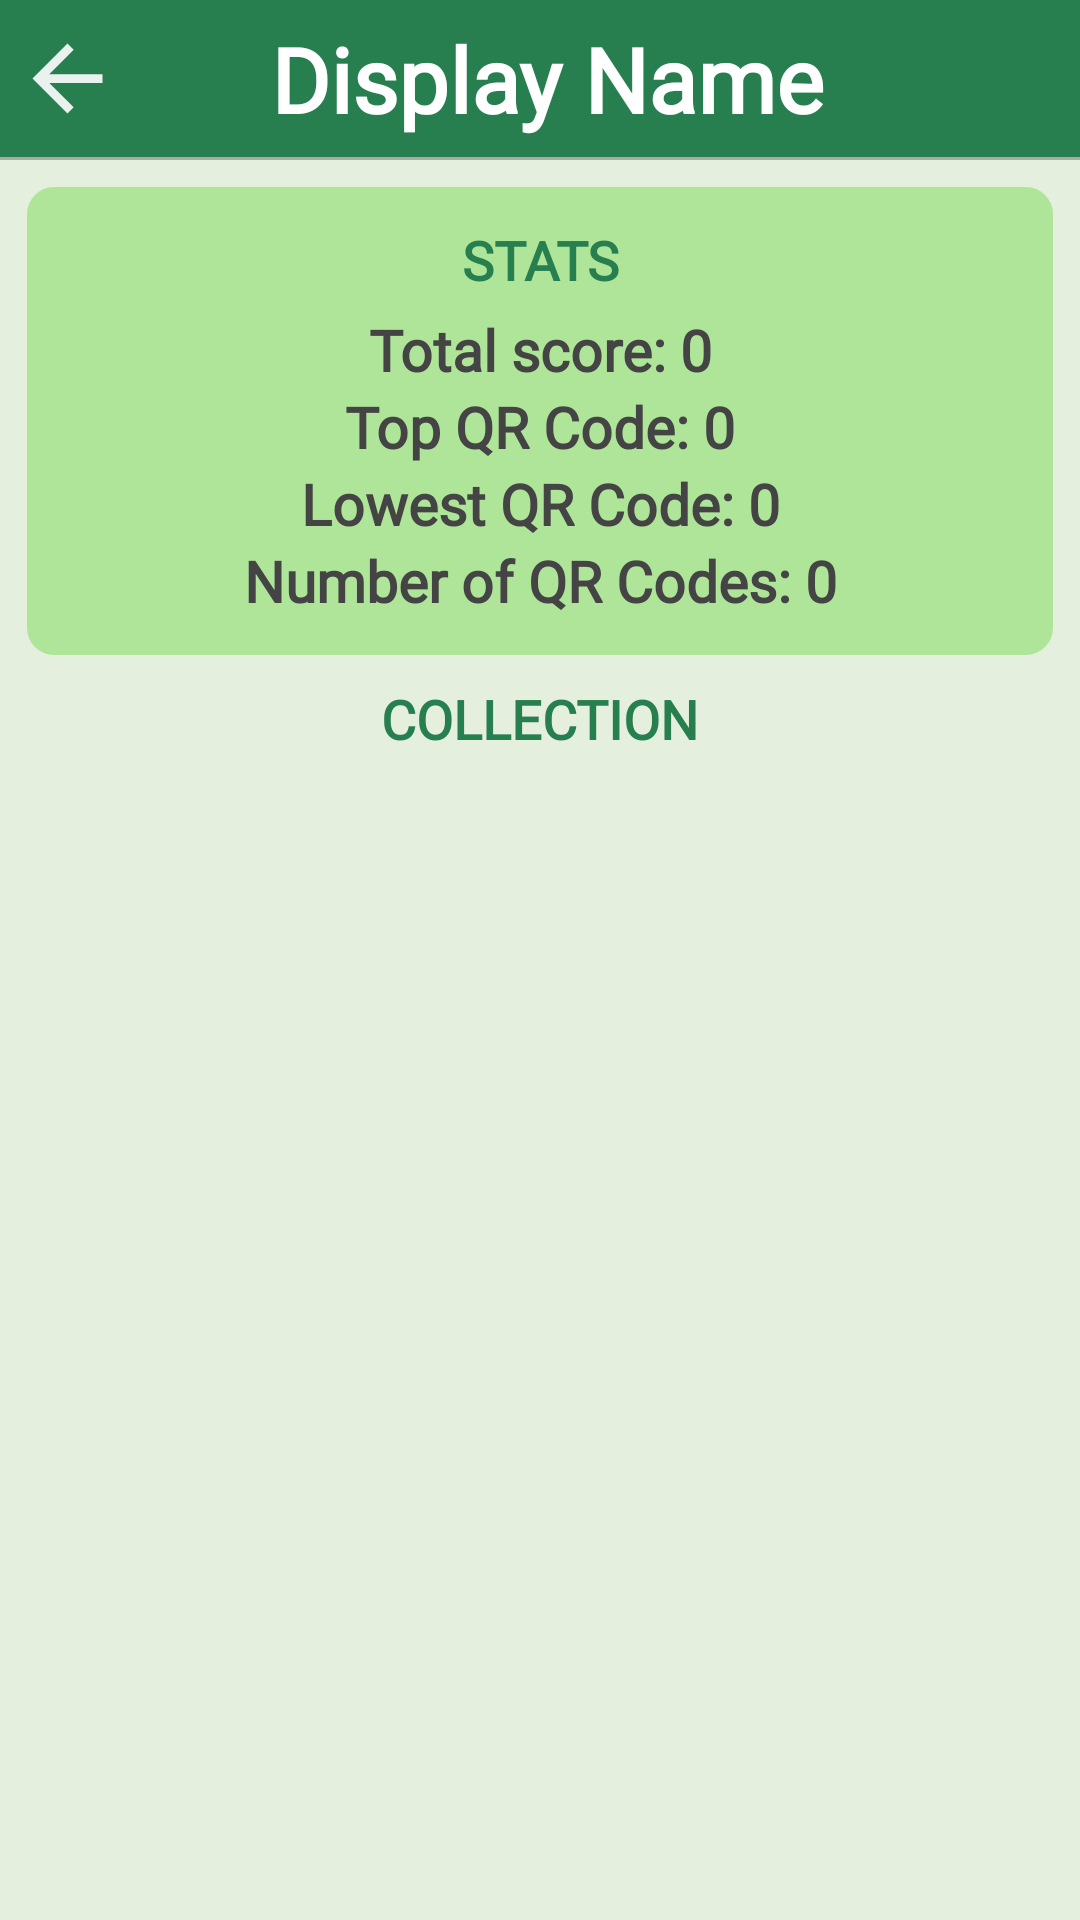

Locate icon controls on the screen. Image size 1080 x 1920, boxes as (x1, y1, x2, y2).
back: (32, 43, 103, 114)
